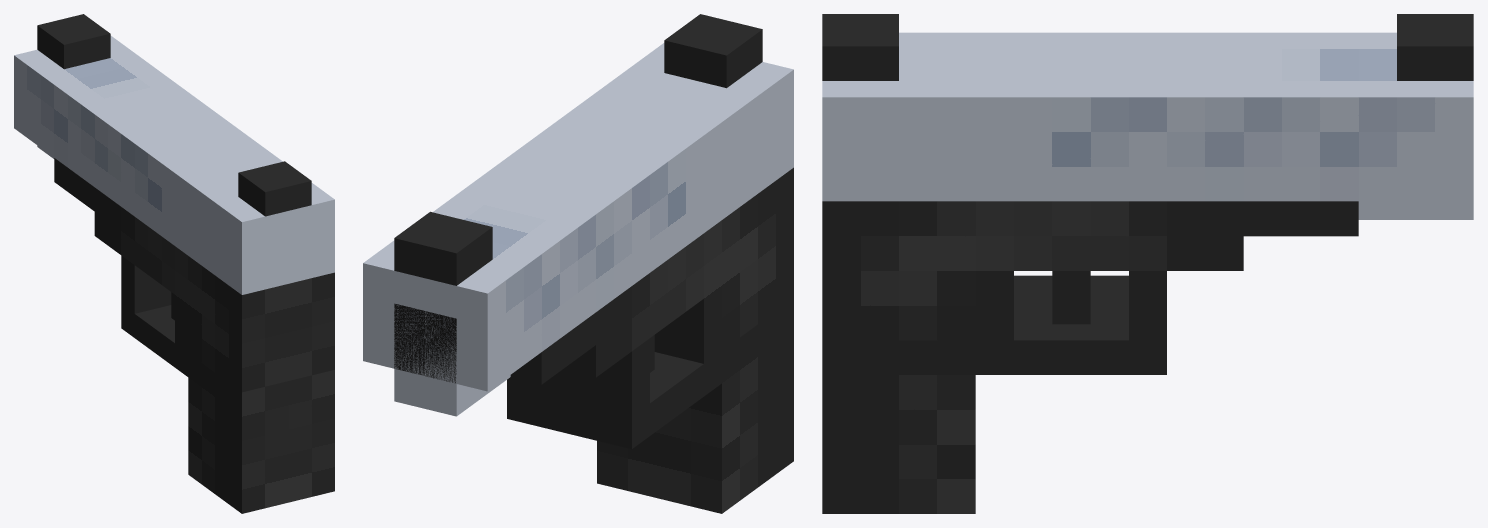
File: Handgun.fbx
3 views of the same model, side by side, from view 1: azimuth 30°, elevation 25°; view 2: azimuth 150°, elevation 25°; view 3: azimuth 270°, elevation 25° (orthographic). The views are drawn at different scales.
Parts seen in each view (by area): view 1: cube_6, cube, cube_1, cube_2, cube_9, cube_10, cube_4, cube_3, cube_8; view 2: cube_6, cube, cube_1, cube_4, cube_2, cube_9, cube_10, cube_3, cube_11, cube_7, cube_8; view 3: cube_6, cube_1, cube, cube_2, cube_4, cube_9, cube_10, cube_8, cube_3, cube_7, cube_5.
Boxes of the visible parts, x1,y1,x2,y2 form: cube_6: [14, 35, 334, 294]; cube: [188, 353, 334, 513]; cube_1: [175, 246, 334, 392]; cube_2: [94, 187, 174, 294]; cube_9: [238, 161, 311, 216]; cube_10: [37, 14, 110, 69]; cube_4: [121, 304, 188, 376]; cube_3: [121, 255, 171, 313]; cube_8: [54, 158, 94, 211]; cube_6: [363, 43, 793, 391]; cube: [597, 298, 793, 513]; cube_1: [654, 167, 793, 363]; cube_4: [507, 351, 721, 449]; cube_2: [563, 233, 703, 377]; cube_9: [664, 14, 762, 88]; cube_10: [394, 211, 492, 285]; cube_3: [507, 338, 649, 416]; cube_11: [394, 303, 456, 383]; cube_7: [394, 369, 510, 416]; cube_8: [510, 312, 595, 384]; cube_6: [822, 32, 1473, 201]; cube_1: [822, 201, 1013, 340]; cube: [822, 340, 975, 513]; cube_2: [1014, 201, 1243, 270]; cube_4: [975, 275, 1166, 374]; cube_9: [822, 14, 898, 80]; cube_10: [1397, 14, 1473, 80]; cube_8: [1243, 201, 1358, 236]; cube_3: [1129, 271, 1166, 340]; cube_7: [1358, 201, 1473, 219]; cube_5: [1052, 271, 1090, 324].
Size of the model in its own units: 25 by 81.25 by 106.
Materials: 1 (1 with a texture image).
